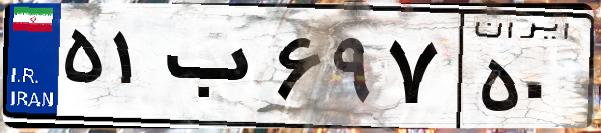0: (525, 38, 570, 115)
1: (110, 28, 158, 98)
5: (57, 26, 110, 100), (475, 38, 525, 113)
6: (270, 28, 330, 110)
7: (385, 28, 445, 110)
9: (330, 28, 385, 110)
ب: (158, 20, 270, 120)
